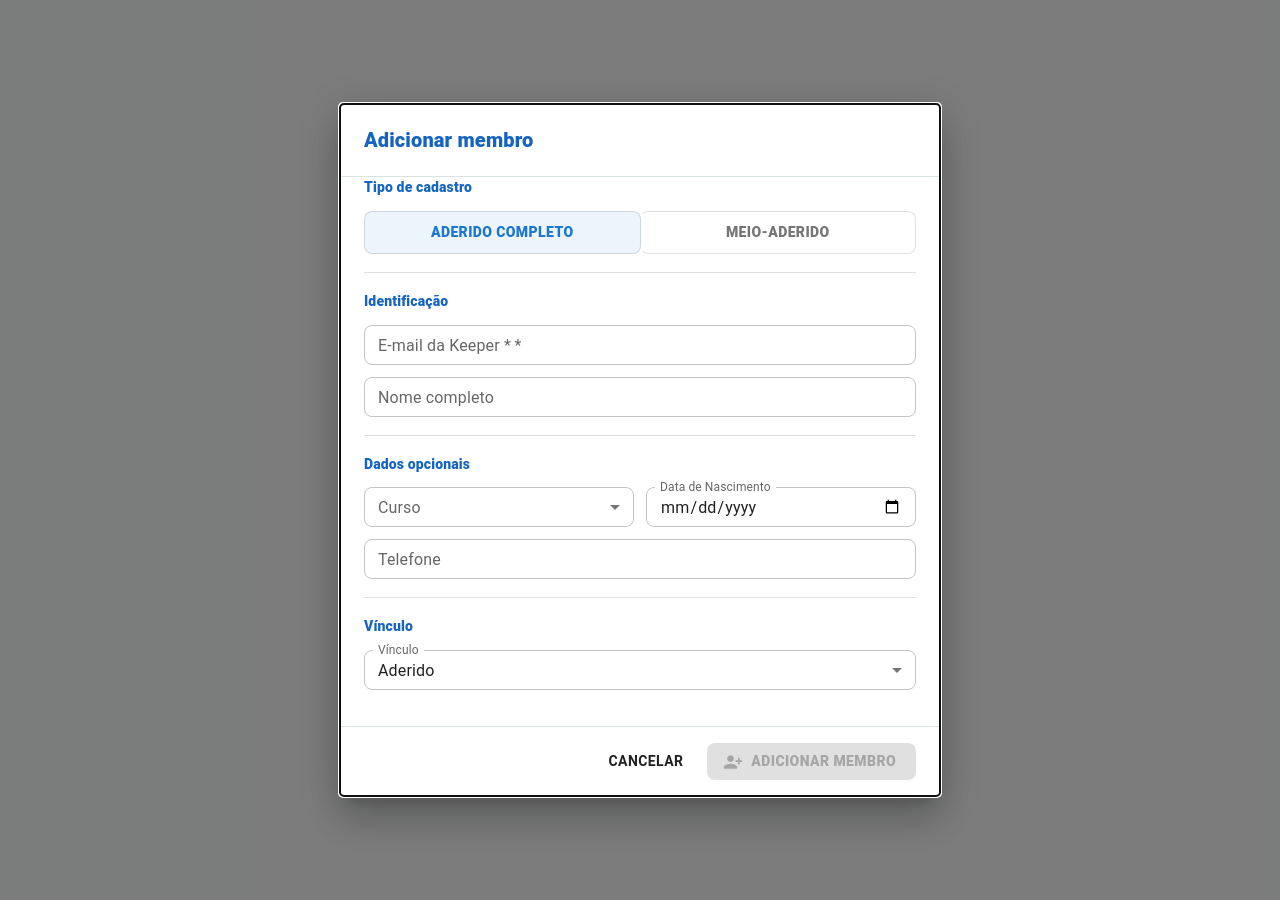
Test: Componente <ModalAdicionarAderido /> › Deve oferecer curso Não informado
Press the mouse on the dropdown named "Curso": [499, 508] box [364, 488, 634, 528]
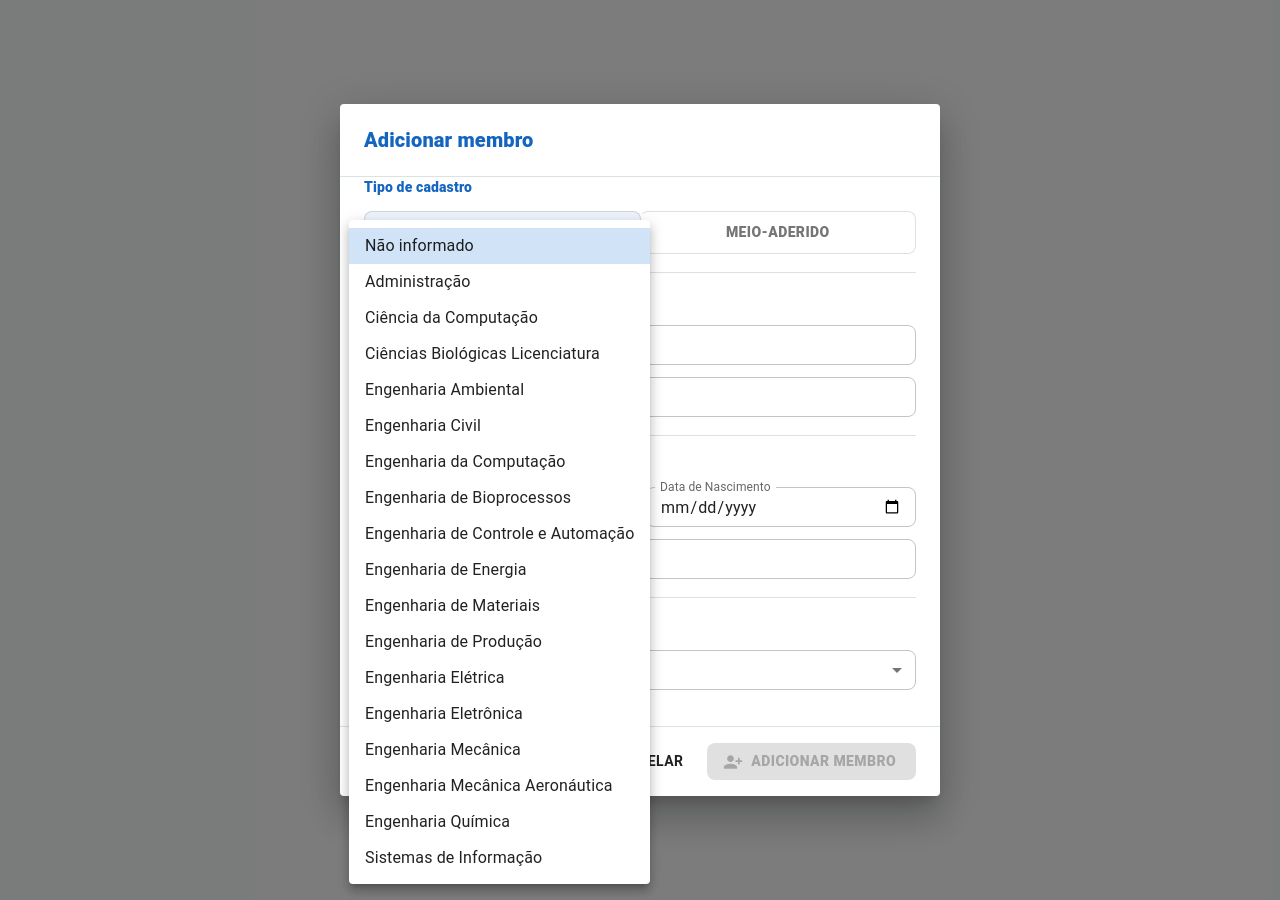
Expected: the option "Não informado" is shown, [349, 228, 650, 264]
